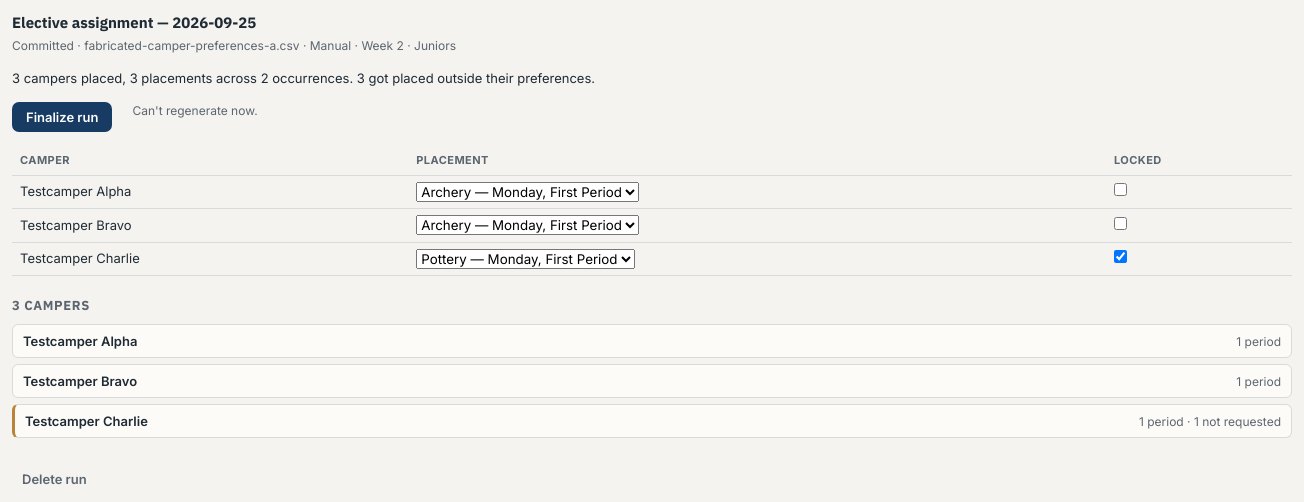
Test: T250 A1 — Finalize run › disables the button and shows Finalizing… while the write is in flight
The width and height of the screenshot is (1304, 502).
Click the button "Finalize run" at (62, 117), box top-left (12, 102), bottom-right (112, 132)
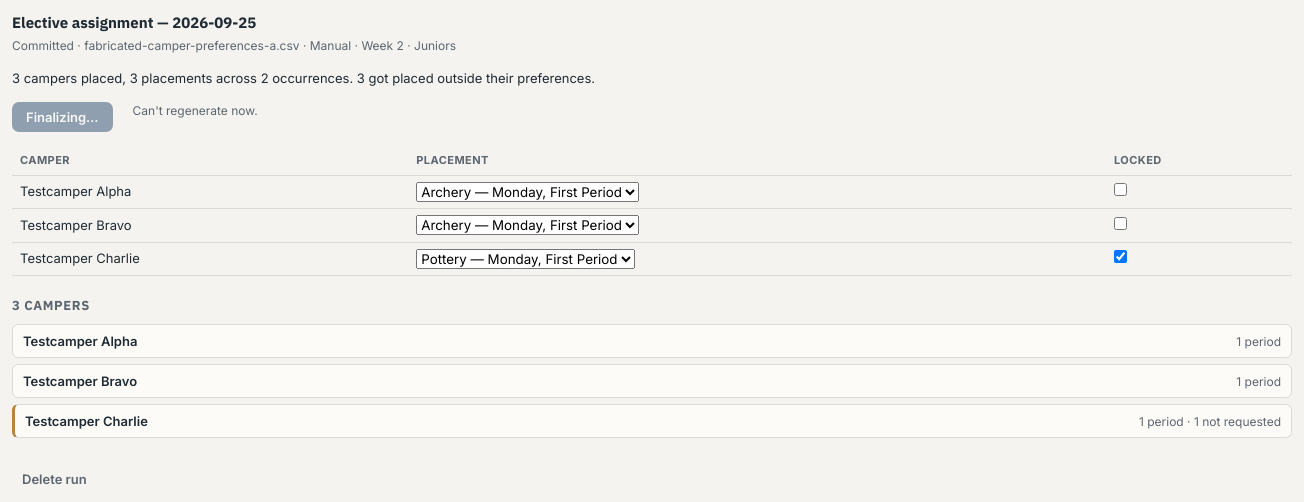
Expected: the button "Finalizing…" is disabled, top-left (12, 102), bottom-right (112, 132)
